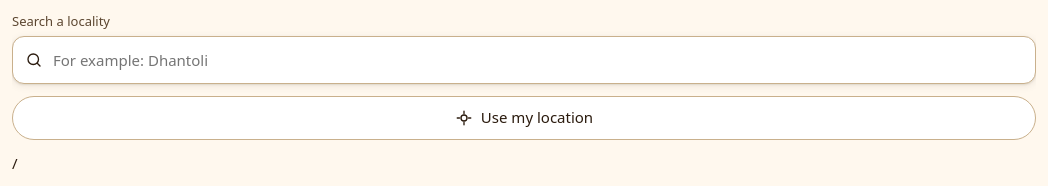
it: LocationPicker › says so when nothing matches
Type "zzz" into the dropdown at x=537, y=60, box [51, 38, 1023, 82]
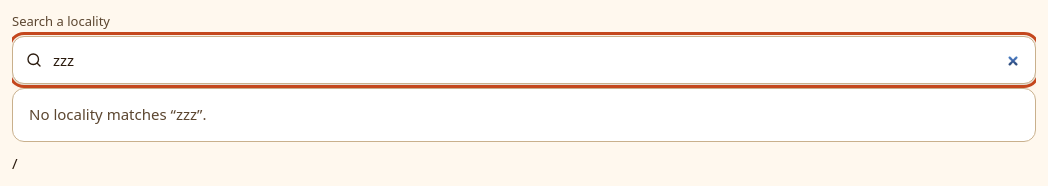
Expected: the list item "No locality matches “zzz”." is shown, [29, 104, 206, 124]
